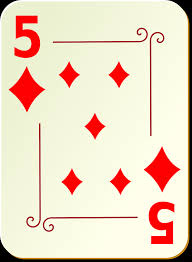five of diamonds: (3, 3, 188, 259)
